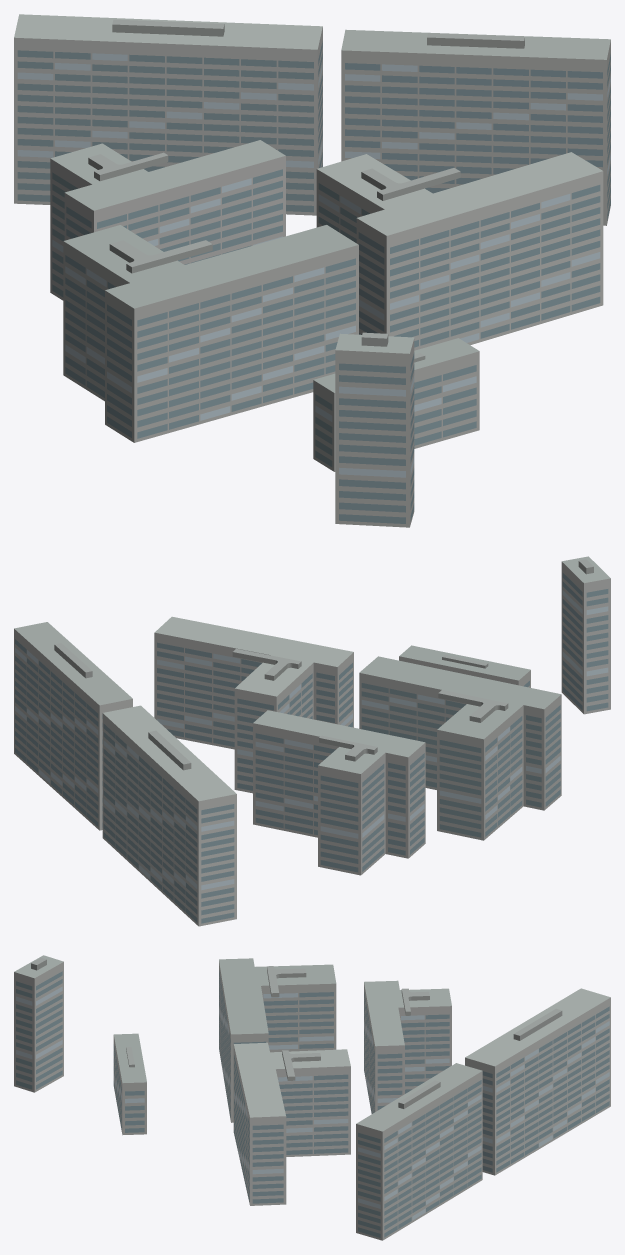
Rendered from apt-a15704015.glb.
3 views of the same model, one above another, from view 1: azimuth 30°, elevation 25°; view 2: azimuth 150°, elevation 25°; view 3: azimuth 270°, elevation 25° (orthographic). The views are drawn at different scales.
Parts seen in each view (by area): view 1: apt-a15704015; view 2: apt-a15704015; view 3: apt-a15704015.
Boxes of the visible parts, bbox=[...] form: apt-a15704015: bbox=[14, 14, 610, 527]; apt-a15704015: bbox=[14, 556, 610, 926]; apt-a15704015: bbox=[14, 955, 610, 1240].
Bounding box in the file's own units: 153 × 44 × 199.
